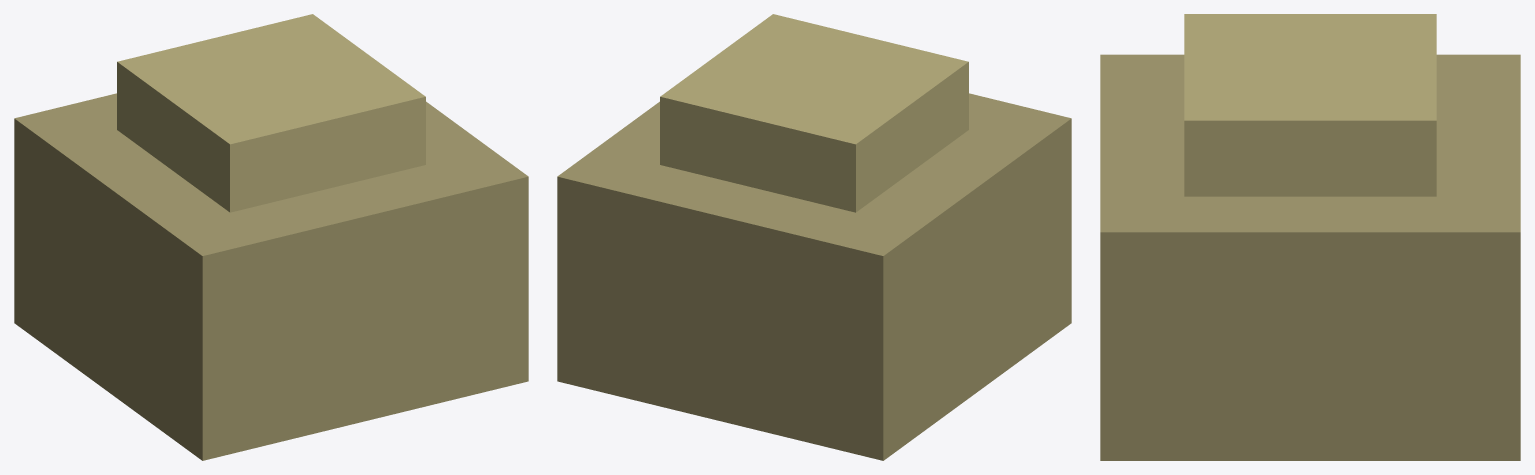
The model's file is hojas_secas_01.glb.
3 views of the same model, side by side, from view 1: azimuth 30°, elevation 25°; view 2: azimuth 150°, elevation 25°; view 3: azimuth 270°, elevation 25° (orthographic). The views are drawn at different scales.
Parts seen in each view (by area): view 1: hojas_secas; view 2: hojas_secas; view 3: hojas_secas.
Boxes of the visible parts, box(x1,y1,x2,y2) form: hojas_secas: box(14, 14, 528, 460); hojas_secas: box(557, 14, 1071, 460); hojas_secas: box(1100, 14, 1520, 460).
Size of the model in its own units: 0.625 by 0.5 by 0.625.
